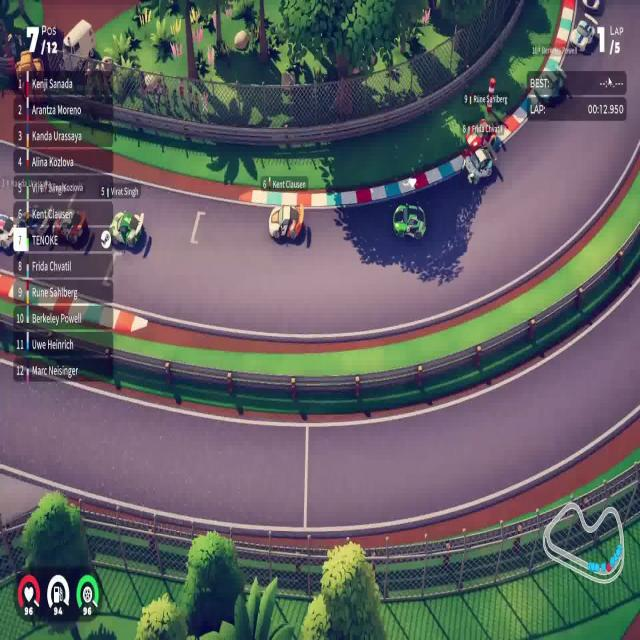car: (101, 209, 144, 250), (268, 202, 304, 243), (392, 201, 427, 241), (462, 145, 493, 186), (465, 119, 499, 148), (569, 18, 595, 54)
